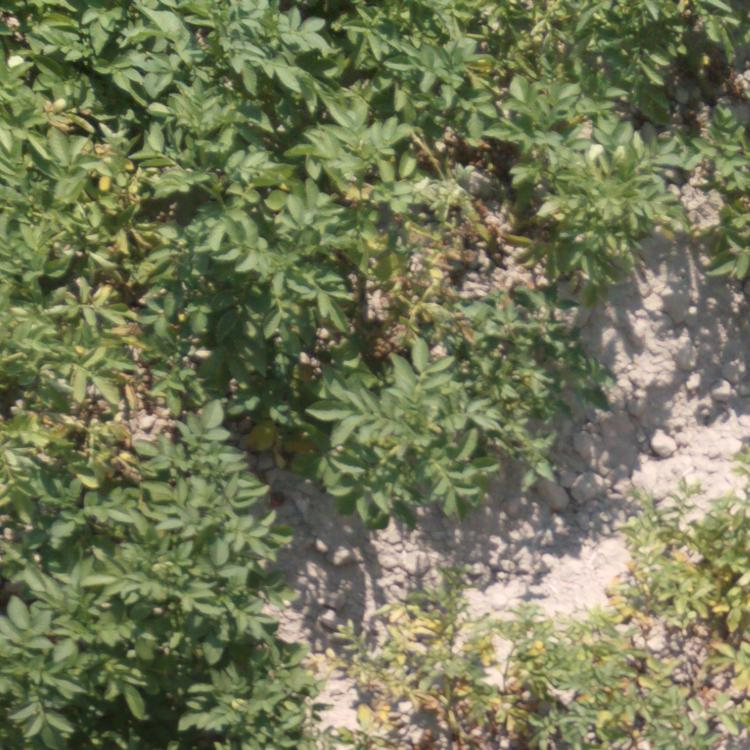healthy: (3, 492, 306, 745), (159, 1, 493, 166), (504, 1, 665, 295), (343, 324, 604, 501), (179, 167, 343, 442), (688, 10, 750, 297), (1, 1, 145, 98)
stressed: (322, 602, 620, 750), (626, 486, 750, 750), (1, 309, 176, 480), (1, 108, 155, 298), (362, 174, 487, 321)
